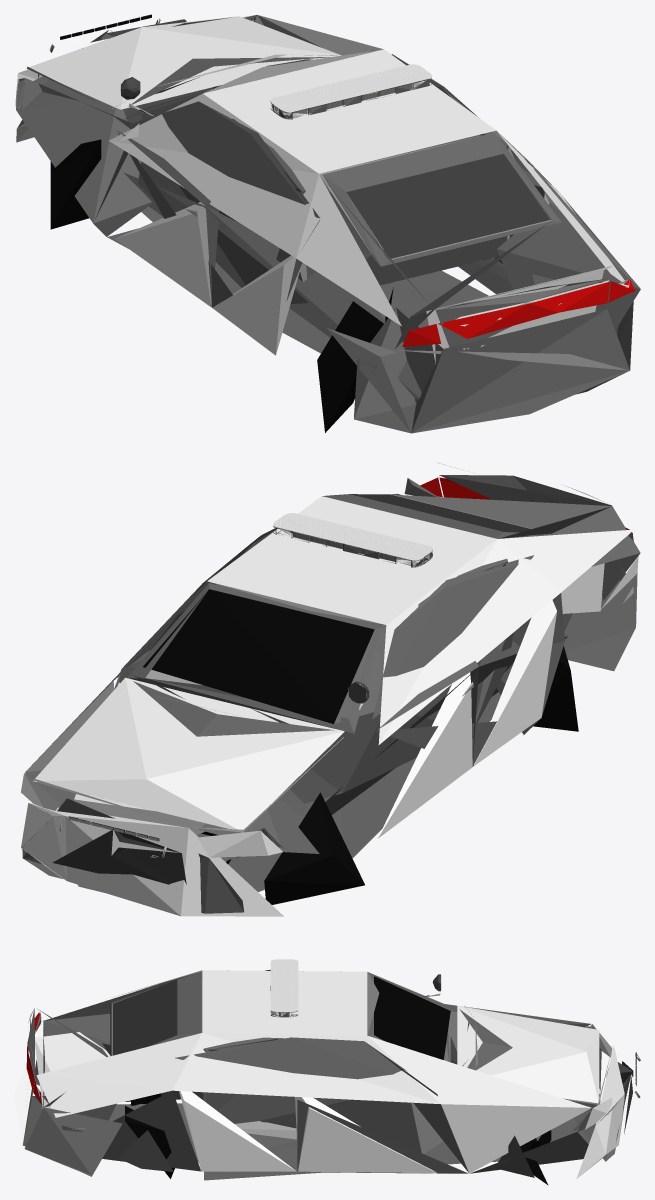
The model's file is charger_lod2.glb.
The picture shows the model from 3 angles, top to bottom: view 1: azimuth 30°, elevation 25°; view 2: azimuth 150°, elevation 25°; view 3: azimuth 270°, elevation 25°; orthographic projection. The views are drawn at different scales.
Visible parts, largest first — view 1: Material3 (×9), Material2 (×3); view 2: Material3 (×10), Material2 (×4); view 3: Material2 (×4), Material3 (×12).
Boxes of the visible parts, <box> form: Material3 (×9): <box>16,15,640,433</box>; Material2 (×3): <box>26,15,638,432</box>; Material3 (×10): <box>22,475,640,913</box>; Material2 (×4): <box>21,462,638,916</box>; Material2 (×4): <box>14,970,624,1178</box>; Material3 (×12): <box>22,959,631,1185</box>.
Bounding box in the file's own units: 2 × 1.53 × 5.01.
Materials: 57 (9 with a texture image).
